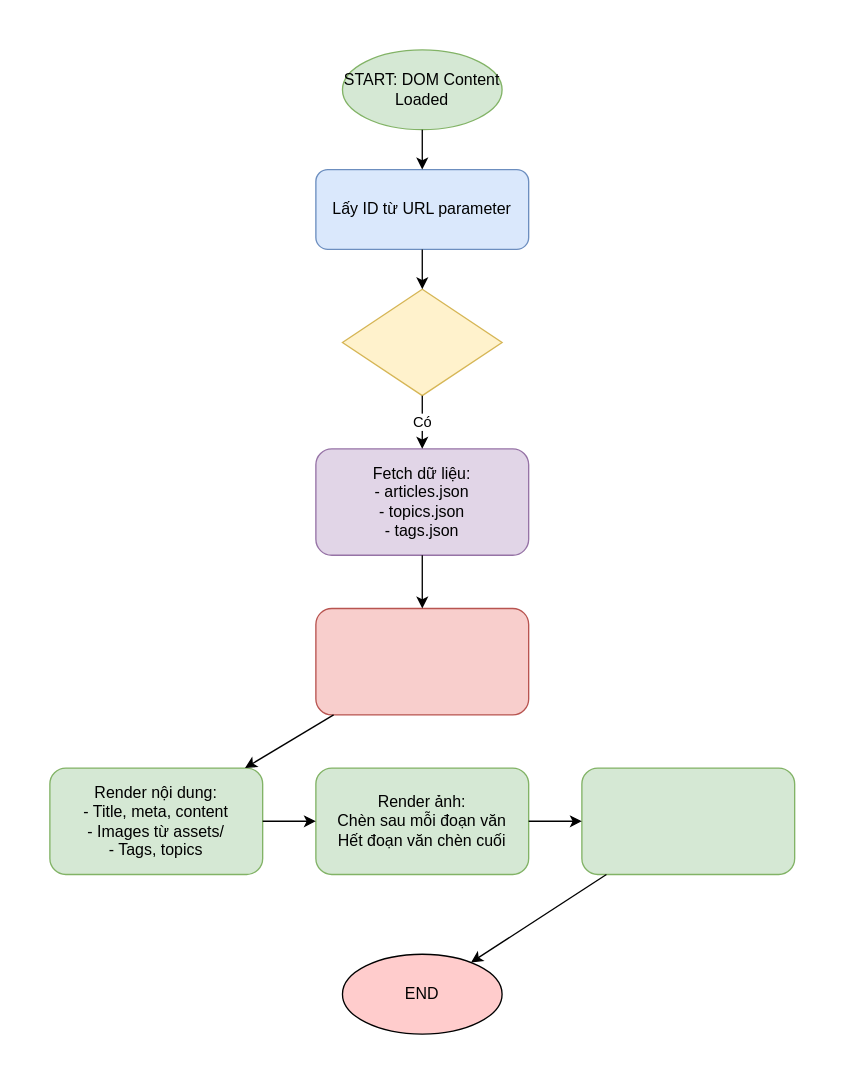
Image size: 857x1083. Some labels were removed from this diagram. Here are the shapes that lost their labels. From the top down, the centre of each, then its label:
At [421,342]: "ID có tồn tại?".
At [422,661]: "Binary Search: findArticleById() (nếu không tìm thấy → return articles[0])".
At [688,820]: "Tìm bài viết liên quan (cùng topics)".
